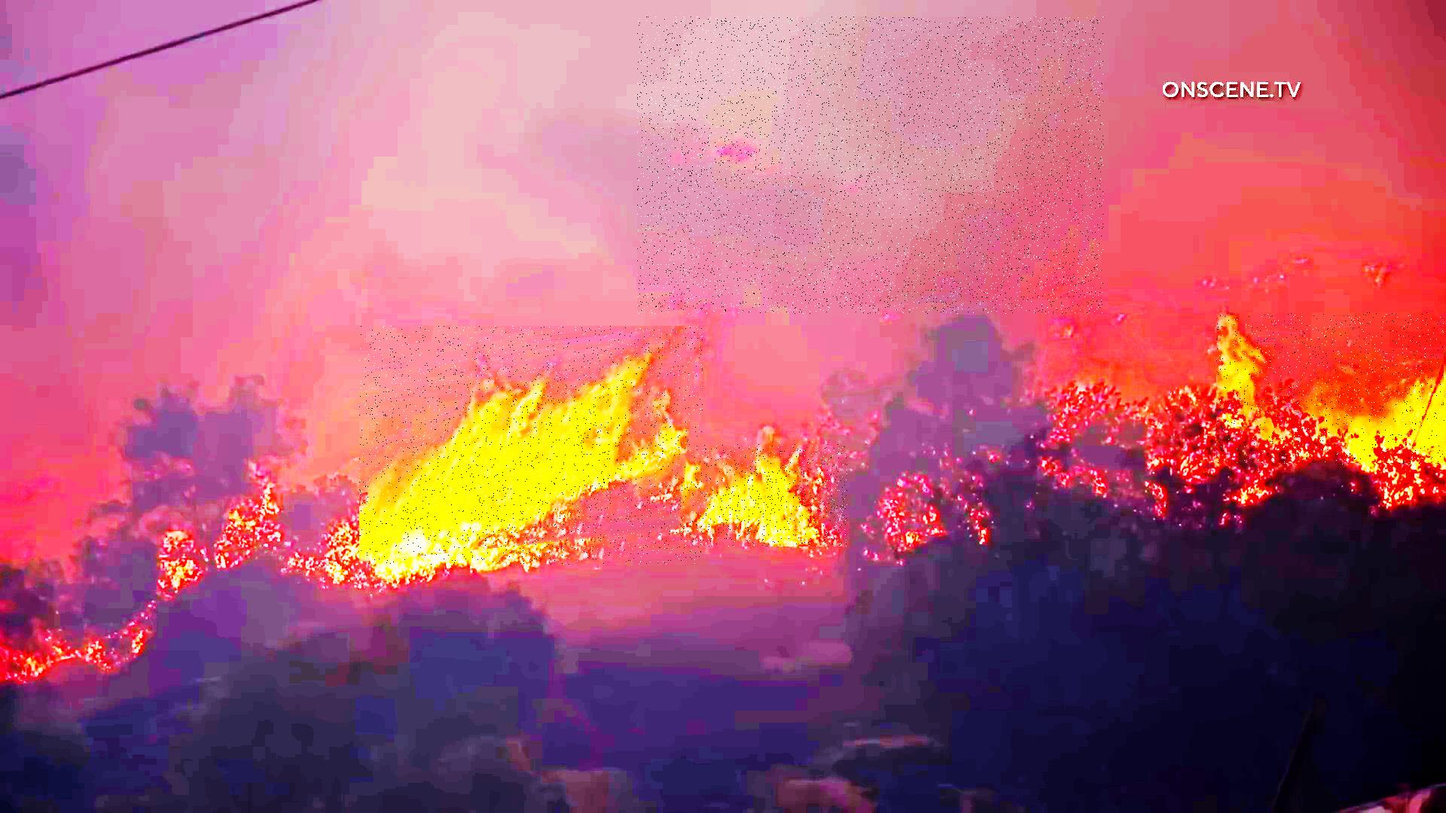fire: (359, 326, 703, 565), (1217, 313, 1446, 465), (698, 444, 848, 547)
smoke: (638, 17, 1104, 315)
